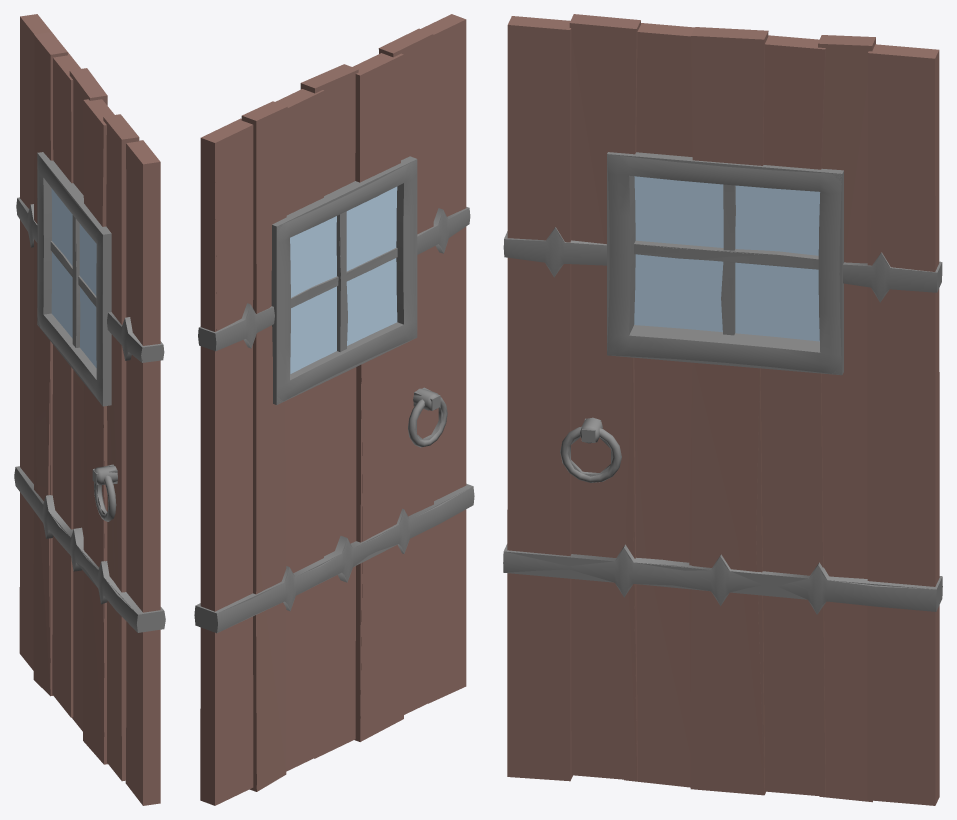
Rendered from Wooden_Door_1_W.fbx.
3 renders of one model, left to right at view 1: azimuth 30°, elevation 25°; view 2: azimuth 150°, elevation 25°; view 3: azimuth 270°, elevation 25°, orthographic. The views are drawn at different scales.
Parts seen in each view (by area): view 1: Wooden_Door_1_W_LOD0, Wooden_Door_1_W, Wooden_Door_1_Glass; view 2: Wooden_Door_1_W_LOD0, Wooden_Door_1_W, Wooden_Door_1_Glass; view 3: Wooden_Door_1_W_LOD0, Wooden_Door_1_W, Wooden_Door_1_Glass.
Part boxes in pixels (x1,y1,x2,y2): Wooden_Door_1_W_LOD0: (16, 17, 163, 805); Wooden_Door_1_W: (14, 14, 165, 781); Wooden_Door_1_Glass: (51, 188, 96, 367); Wooden_Door_1_W_LOD0: (195, 19, 472, 805); Wooden_Door_1_W: (194, 14, 474, 791); Wooden_Door_1_Glass: (290, 186, 397, 373); Wooden_Door_1_W_LOD0: (503, 25, 942, 805); Wooden_Door_1_W: (503, 14, 942, 801); Wooden_Door_1_Glass: (634, 176, 820, 341).
Size of the model in its own units: 0.3223 by 2.18 by 1.15.
